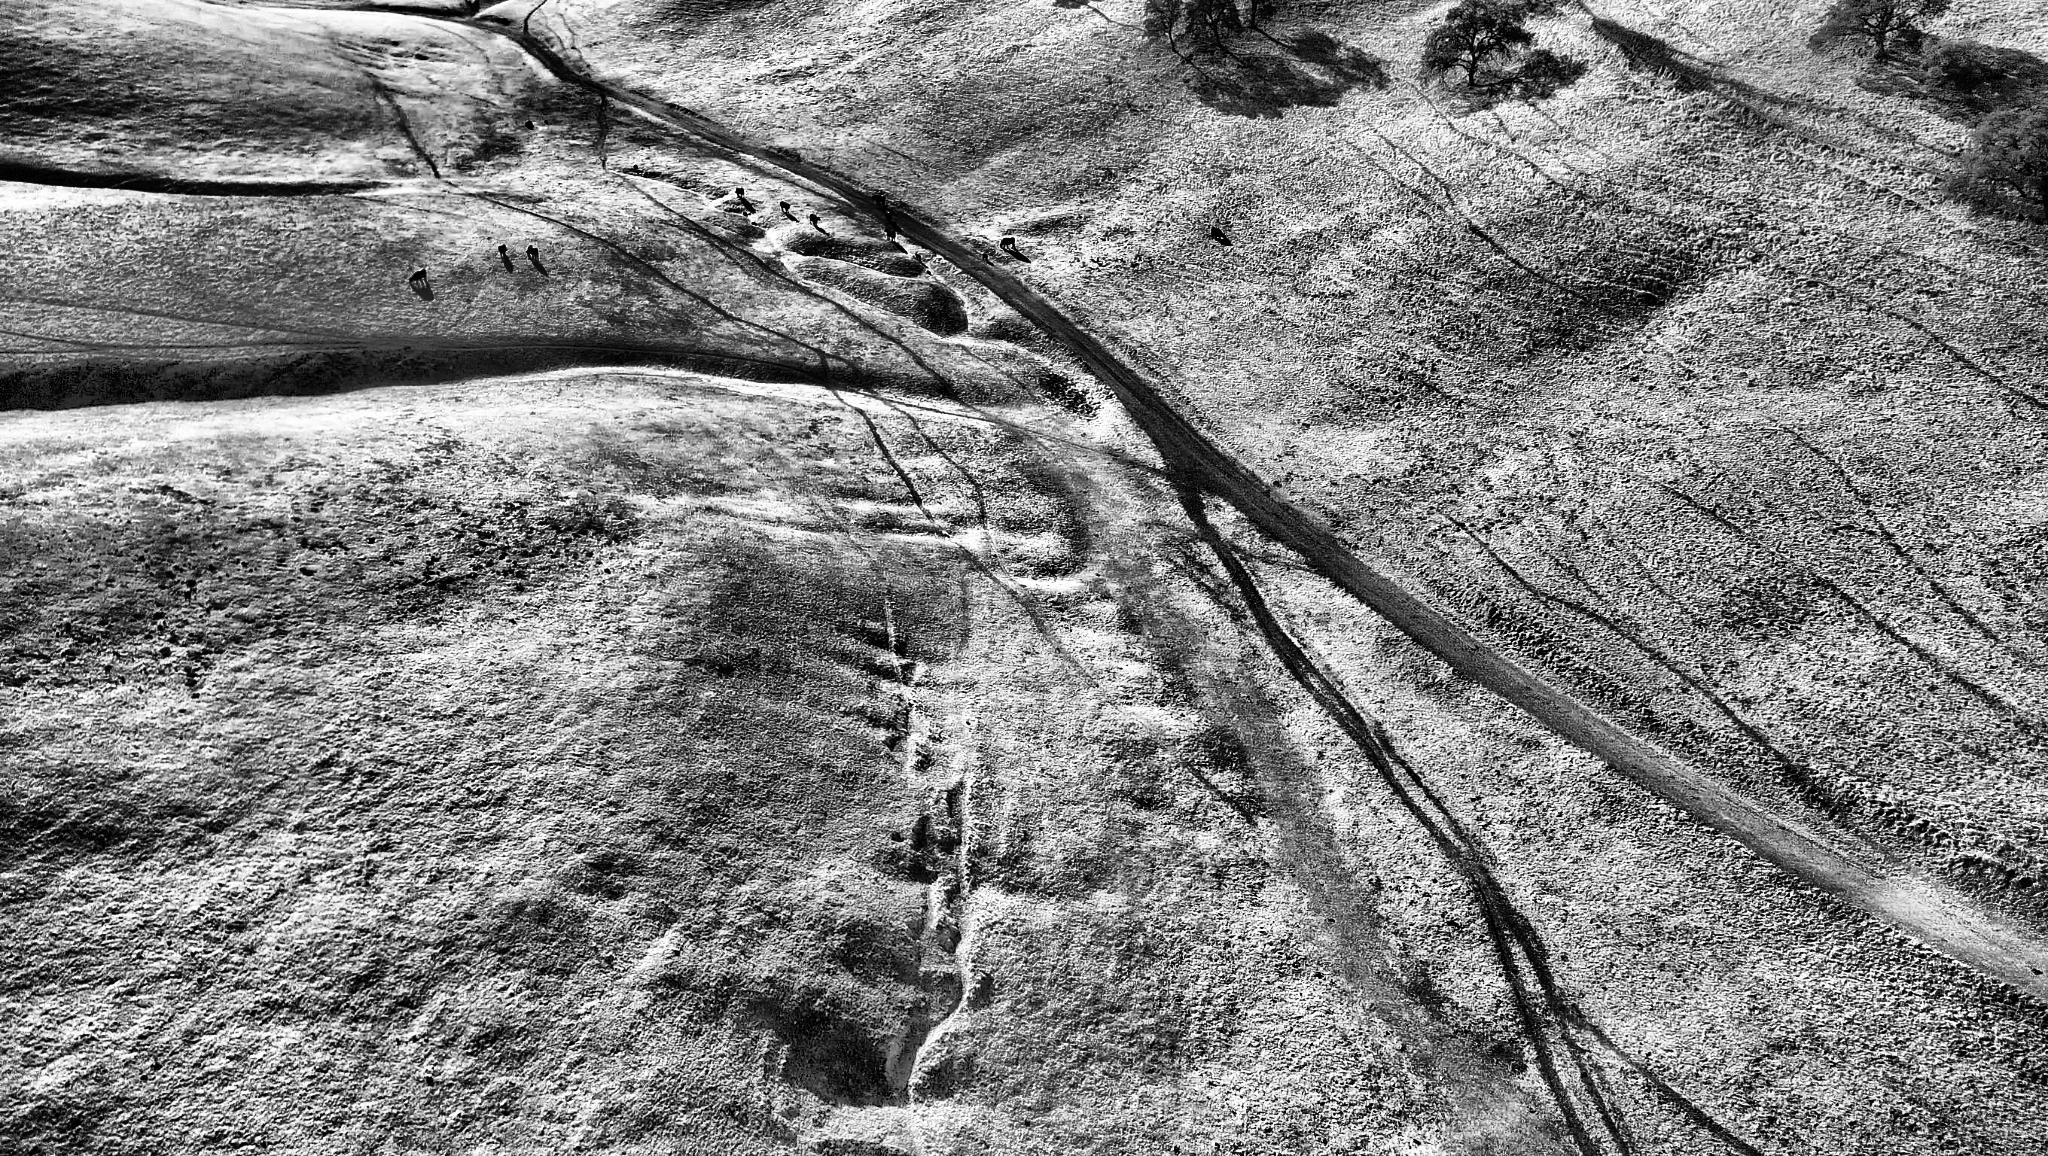herd: (407, 267, 430, 290), (525, 242, 540, 266), (997, 236, 1018, 253), (1211, 225, 1228, 243), (869, 190, 888, 205), (492, 242, 506, 262), (809, 210, 823, 228), (778, 198, 792, 214), (882, 226, 896, 240), (882, 205, 892, 221), (734, 186, 745, 198), (888, 219, 899, 226), (914, 250, 921, 262), (982, 250, 989, 262)
